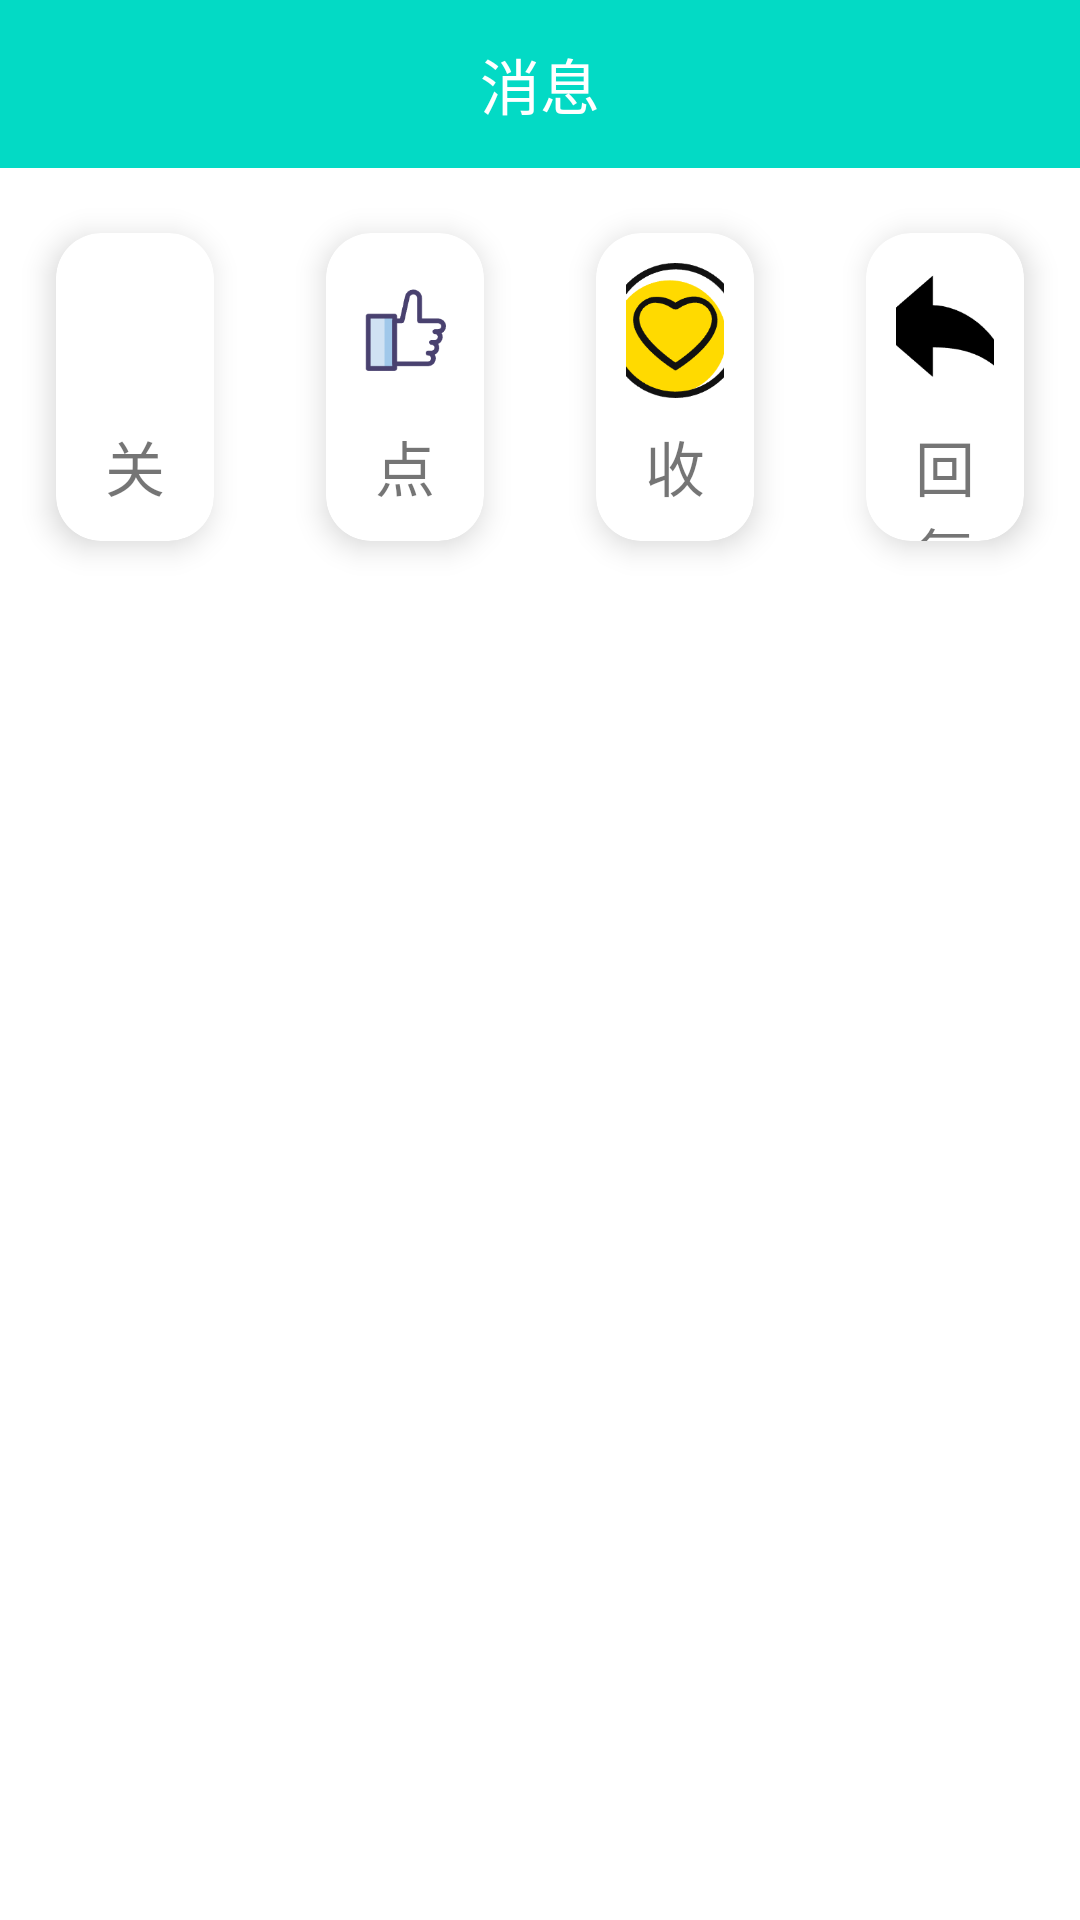

Icon bounding boxes for this 1080 x 1920 phone screenshot, format (x1, y1, x2, y2):
message collect: (626, 263, 724, 398)
message like: (365, 289, 446, 371)
message reply: (896, 276, 994, 377)
